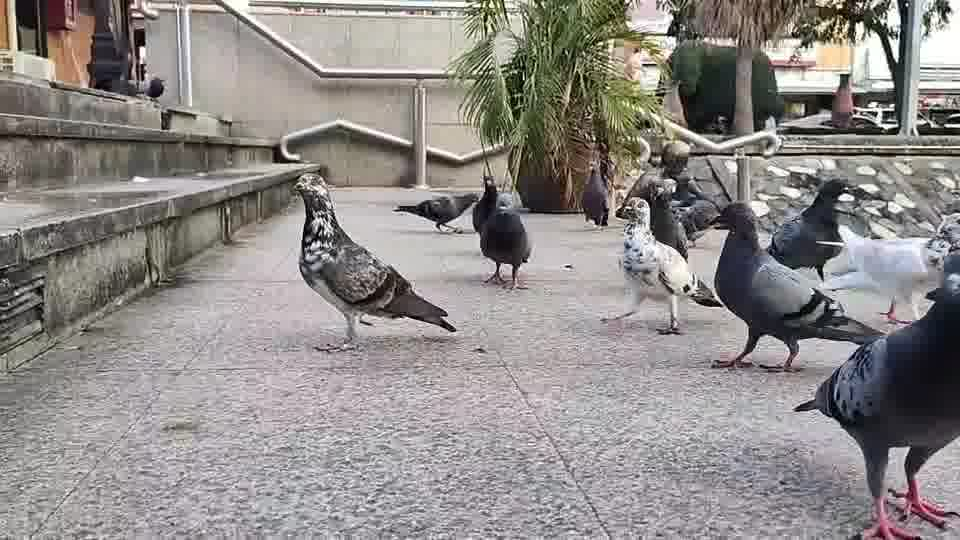Pigeon: (792, 251, 959, 538), (706, 199, 886, 372), (290, 171, 456, 352), (599, 195, 724, 335), (823, 222, 931, 323), (765, 176, 855, 281), (471, 175, 532, 289), (391, 190, 479, 234), (580, 160, 610, 228)
